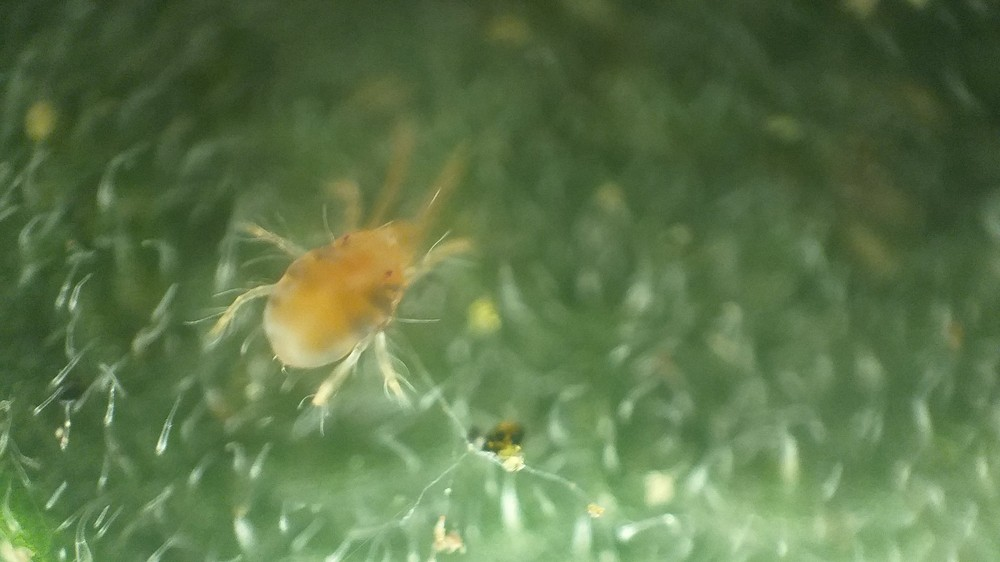Aracnido Rojo: (179, 121, 491, 429)
